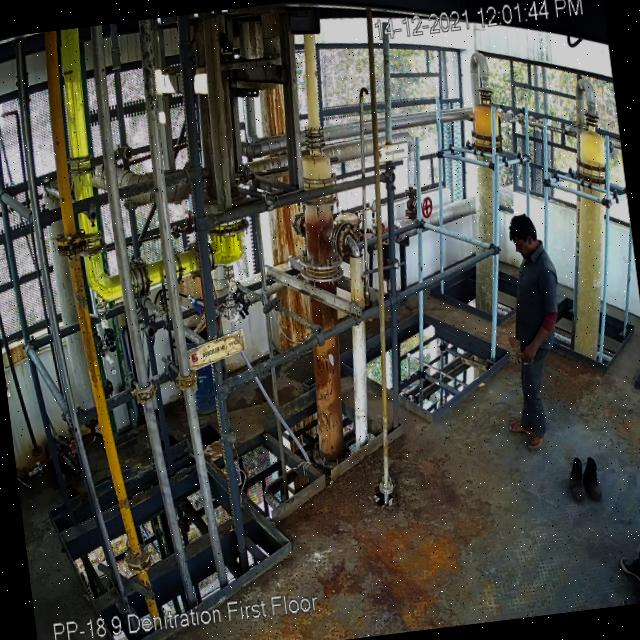boots: (582, 456, 604, 502), (566, 458, 585, 500)
no-boots: (504, 412, 538, 442), (526, 435, 547, 453)
